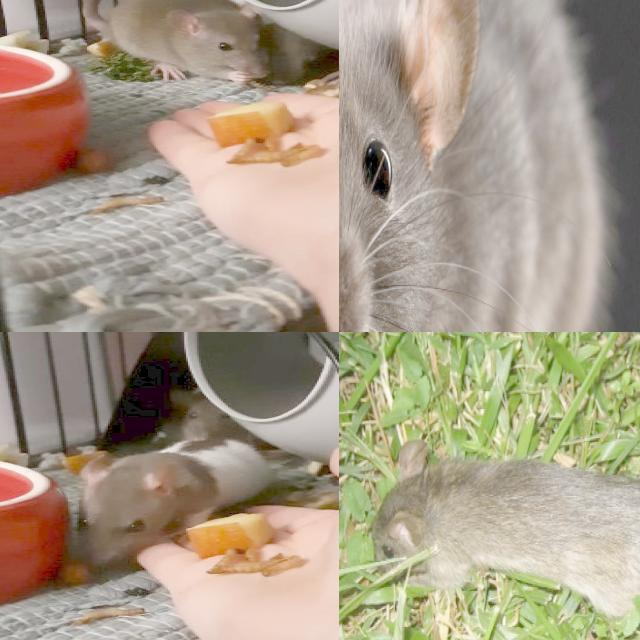rat: (339, 0, 602, 332), (366, 435, 640, 615), (74, 431, 295, 572), (106, 0, 273, 85)
